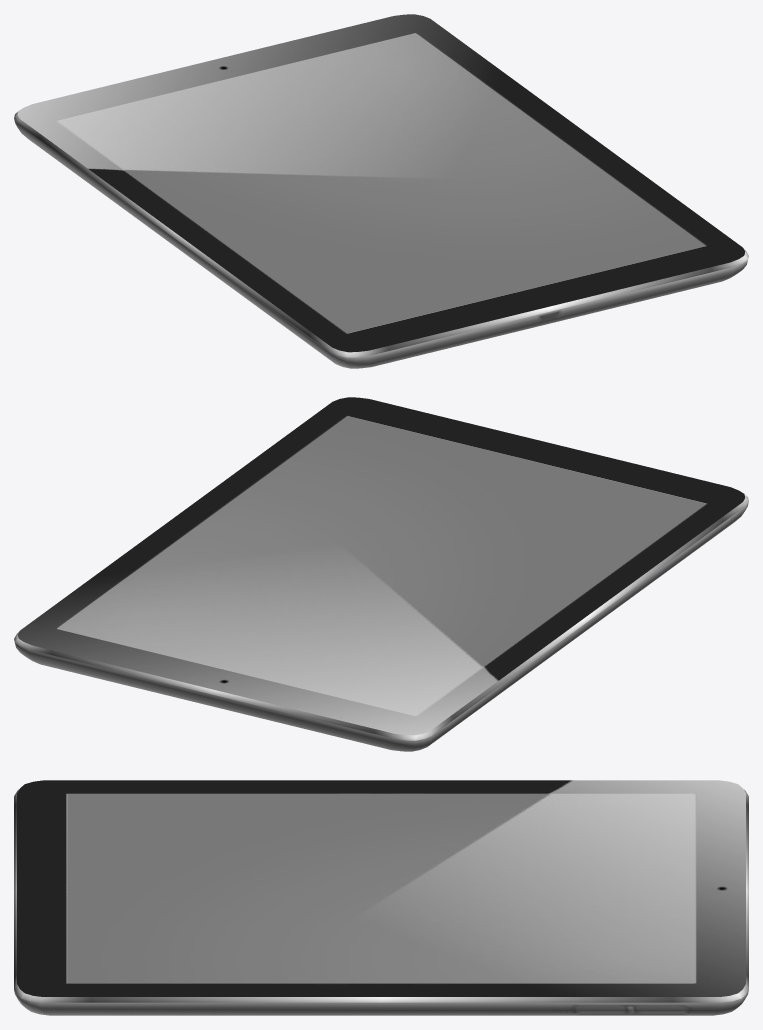
File: tablet.obj
3 views of the same model, one above another, from view 1: azimuth 30°, elevation 25°; view 2: azimuth 150°, elevation 25°; view 3: azimuth 270°, elevation 25° (orthographic). The views are drawn at different scales.
Parts seen in each view (by area): view 1: screen_Cube.001, tablet_Cube; view 2: screen_Cube.001, tablet_Cube; view 3: screen_Cube.001, tablet_Cube.
Boxes of the visible parts, x1,y1,x2,y2 form: screen_Cube.001: (57,33,705,333); tablet_Cube: (14,14,748,368); screen_Cube.001: (57,416,705,716); tablet_Cube: (14,397,748,751); screen_Cube.001: (66,794,696,983); tablet_Cube: (14,780,748,1015).
Bounding box in the file's own units: 16.96 × 0.8396 × 24.03.
2 materials, 2 textured.
